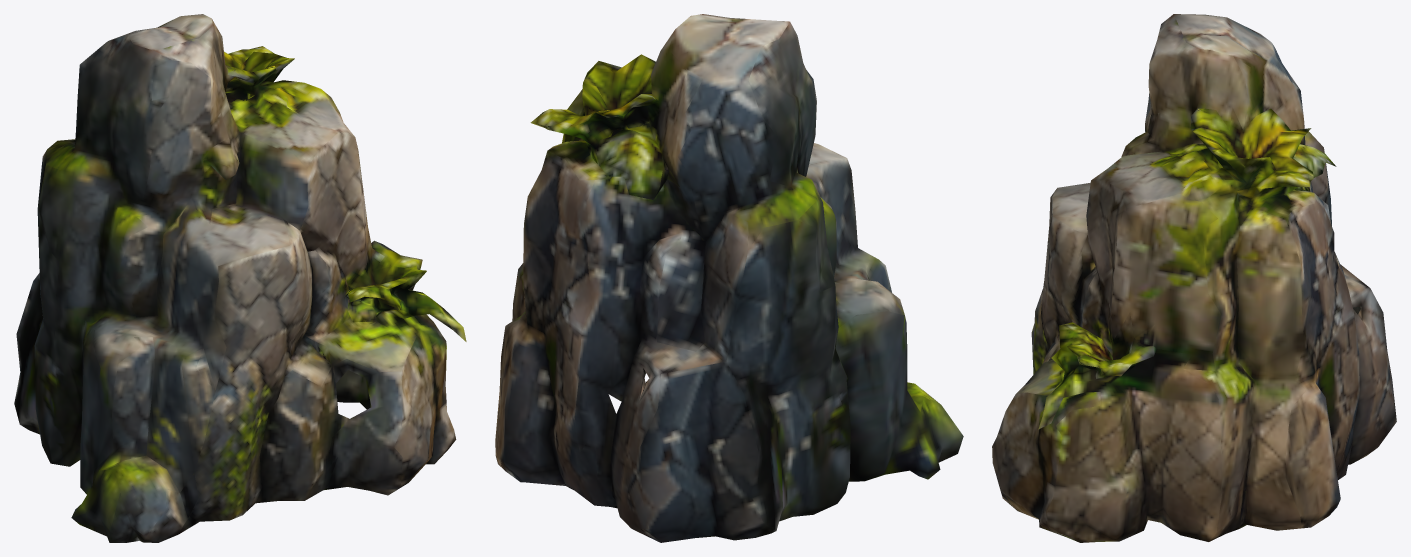
The model's file is SummerDecor_BossRoom_SeaRock.fbx.
The picture shows the model from 3 angles, left to right: view 1: azimuth 30°, elevation 25°; view 2: azimuth 150°, elevation 25°; view 3: azimuth 270°, elevation 25°; orthographic projection. The views are drawn at different scales.
Visible parts, largest first — view 1: SummerDecor_BossRoom_SeaRock_Mesh; view 2: SummerDecor_BossRoom_SeaRock_Mesh; view 3: SummerDecor_BossRoom_SeaRock_Mesh.
Part boxes in pixels (x1,y1,x2,y2): SummerDecor_BossRoom_SeaRock_Mesh: (14, 14, 466, 542); SummerDecor_BossRoom_SeaRock_Mesh: (495, 14, 963, 542); SummerDecor_BossRoom_SeaRock_Mesh: (992, 14, 1396, 542).
Bounding box in the file's own units: 5.26 × 6 × 5.17.
Materials: 1 (1 with a texture image).
